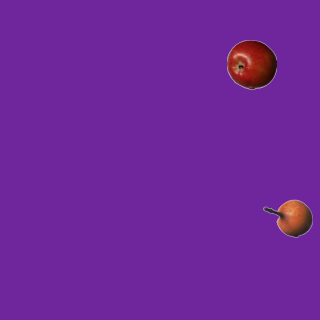Apple Braeburn: (226, 39, 276, 89)
Granadilla: (262, 193, 312, 243)
